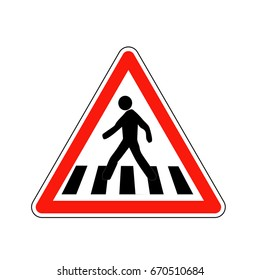pedestrian: (49, 68, 208, 209)
